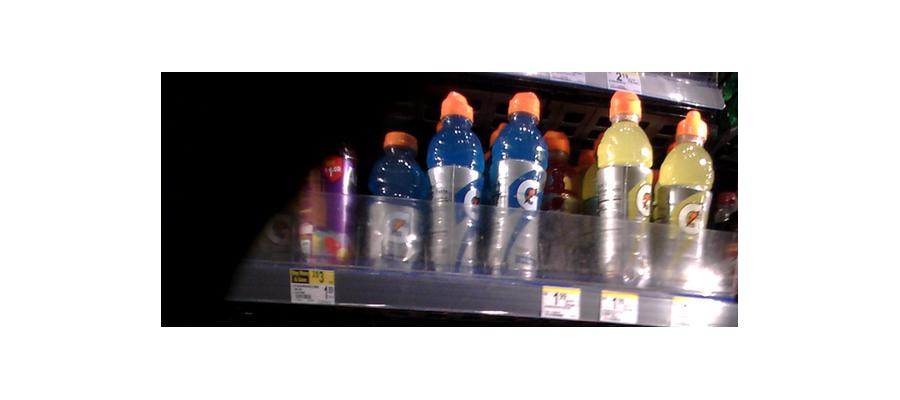bottle: (487, 91, 551, 283), (595, 94, 658, 289), (427, 93, 484, 277), (656, 113, 713, 284), (364, 126, 424, 271), (294, 135, 357, 264)
